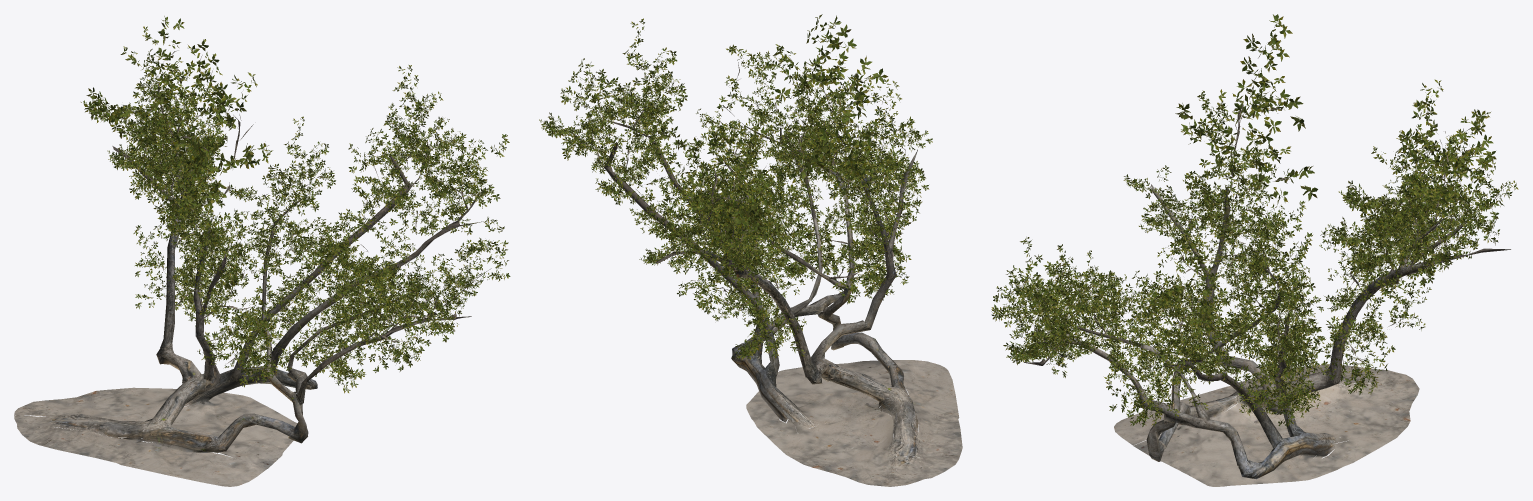
The model's file is island_tree_03.glb.
3 views of the same model, side by side, from view 1: azimuth 30°, elevation 25°; view 2: azimuth 150°, elevation 25°; view 3: azimuth 270°, elevation 25° (orthographic). The views are drawn at different scales.
Visible parts, largest first — view 1: island_tree_03_LOD0; view 2: island_tree_03_LOD0; view 3: island_tree_03_LOD0.
Part boxes in pixels (x1,y1,x2,y2): island_tree_03_LOD0: (14,16,510,486); island_tree_03_LOD0: (539,14,962,486); island_tree_03_LOD0: (991,14,1518,486).
Size of the model in its own units: 2.97 by 2.61 by 2.91.
3 materials, 3 textured.
